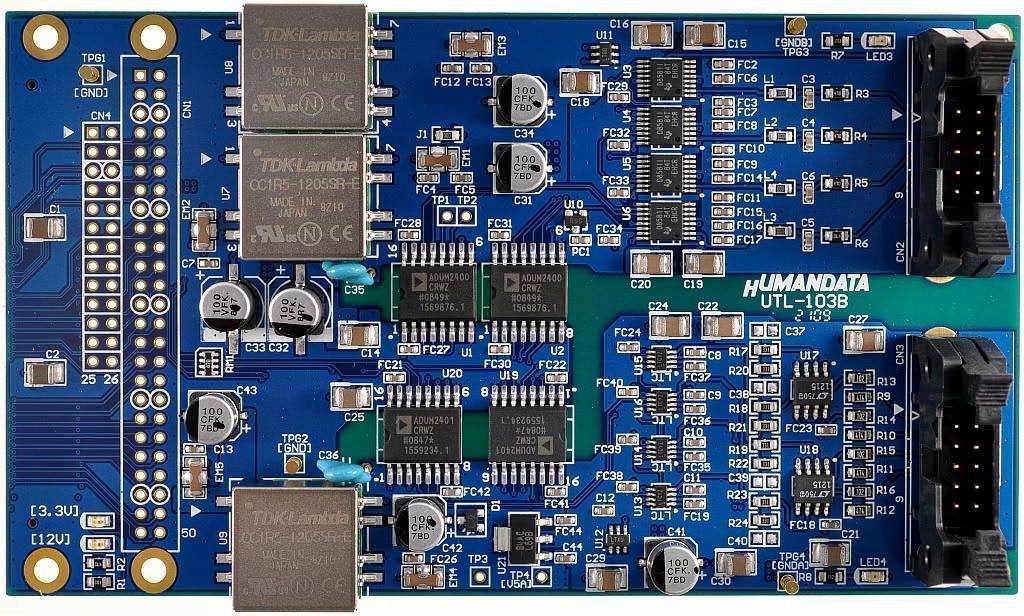Capacitor: (22, 215, 67, 242), (685, 247, 724, 278), (337, 321, 380, 349), (702, 314, 744, 342), (650, 312, 691, 339), (684, 22, 726, 48), (631, 251, 672, 277), (330, 384, 371, 410), (812, 541, 852, 567), (22, 359, 65, 383), (560, 71, 601, 96), (588, 565, 627, 591), (846, 328, 886, 353), (717, 551, 757, 576), (632, 24, 673, 48), (608, 185, 632, 201), (396, 228, 421, 242), (487, 342, 511, 356), (682, 436, 707, 449), (545, 485, 570, 498), (596, 235, 623, 247), (608, 140, 632, 153), (682, 484, 706, 497), (684, 359, 706, 373), (711, 158, 736, 170), (569, 234, 592, 247), (609, 91, 632, 104), (711, 235, 735, 247), (197, 257, 221, 269), (682, 499, 706, 511), (803, 86, 815, 110), (803, 129, 815, 152), (712, 192, 735, 204), (183, 442, 206, 454), (820, 518, 843, 530), (385, 370, 406, 383), (711, 220, 735, 231), (617, 386, 639, 398), (617, 345, 640, 356), (683, 348, 706, 359), (617, 434, 640, 445), (470, 63, 493, 74), (399, 344, 420, 356), (684, 389, 705, 401), (816, 423, 837, 435), (441, 485, 462, 497), (555, 514, 576, 526), (804, 180, 814, 205), (713, 108, 735, 119), (489, 230, 511, 241), (803, 229, 814, 251), (617, 482, 639, 493), (555, 551, 577, 562), (713, 58, 733, 70), (418, 173, 439, 184), (685, 452, 706, 463), (712, 145, 735, 155), (714, 120, 733, 132), (713, 208, 735, 218), (546, 372, 566, 383), (684, 404, 706, 414), (594, 506, 616, 516), (442, 63, 463, 73), (452, 172, 472, 182), (713, 75, 734, 84), (715, 97, 735, 106), (714, 174, 735, 182), (404, 554, 425, 561)
Connector: (120, 57, 178, 553), (908, 27, 1015, 280), (911, 331, 1011, 594), (82, 122, 121, 372)
Diode: (455, 504, 487, 539)
EM: (181, 458, 208, 500), (401, 564, 444, 590), (449, 32, 494, 56), (415, 146, 459, 170), (193, 208, 217, 251)
Electrolytic Capacitor: (268, 275, 333, 340), (201, 277, 266, 342), (385, 492, 445, 548), (645, 538, 699, 591), (494, 142, 549, 193), (188, 390, 239, 443), (494, 77, 547, 125), (324, 260, 377, 286), (320, 461, 373, 483)
IC: (217, 479, 381, 613), (224, 3, 392, 129), (224, 135, 392, 259), (397, 240, 477, 347), (381, 382, 462, 485), (487, 243, 567, 343), (489, 383, 565, 484), (493, 510, 552, 566), (634, 151, 697, 198), (633, 104, 697, 150), (789, 455, 836, 517), (635, 198, 695, 246), (787, 361, 835, 420), (635, 57, 697, 101), (644, 434, 678, 463), (644, 345, 676, 373), (643, 387, 676, 413), (603, 524, 630, 555), (645, 483, 676, 509), (590, 45, 619, 67), (563, 211, 590, 233)
Inductor: (764, 84, 796, 102), (764, 181, 797, 197), (765, 128, 796, 145), (764, 226, 796, 238)
Led: (863, 33, 896, 49), (83, 536, 115, 552), (84, 514, 114, 529), (859, 570, 888, 584)
Pads: (750, 324, 780, 339), (750, 380, 780, 395), (750, 475, 780, 489), (750, 532, 780, 546)
Resistor Jumper: (196, 348, 221, 376)
Resistor Network: (83, 573, 115, 591), (821, 84, 852, 102), (844, 501, 874, 519), (843, 483, 875, 499), (432, 127, 463, 143), (846, 371, 877, 387), (822, 33, 853, 49), (749, 493, 780, 509), (822, 128, 854, 143), (822, 176, 852, 192), (750, 456, 780, 472), (749, 342, 780, 357), (750, 399, 781, 414), (846, 464, 875, 480), (816, 568, 845, 584), (82, 556, 115, 570), (822, 228, 852, 243), (751, 417, 780, 432), (845, 446, 874, 461), (846, 389, 874, 404), (846, 427, 874, 442), (750, 438, 780, 452), (750, 513, 780, 527), (845, 409, 874, 423), (751, 363, 780, 376)
Test Point: (784, 16, 808, 38), (78, 65, 103, 85), (779, 572, 799, 595), (437, 205, 457, 225), (532, 567, 552, 587), (284, 455, 304, 474), (470, 567, 489, 587), (457, 207, 476, 226)
